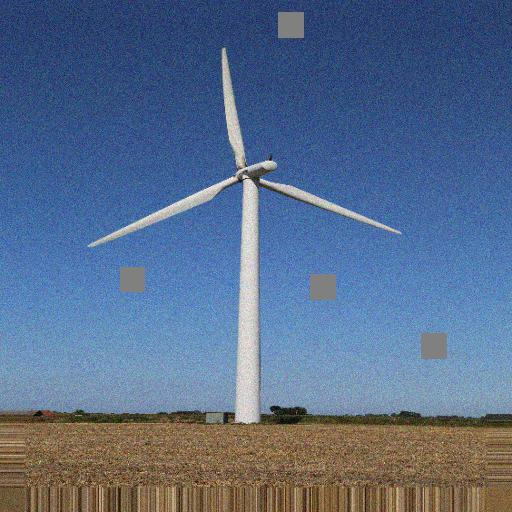wind turbine: (89, 48, 404, 424)
